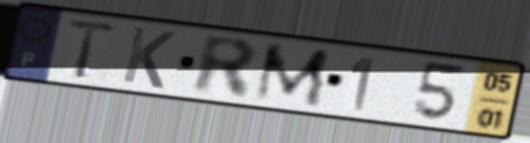1: (347, 56, 375, 112)
5: (409, 58, 470, 125)
K: (118, 24, 178, 92)
M: (250, 42, 334, 110)
R: (190, 31, 260, 102)
T: (64, 17, 122, 81)
